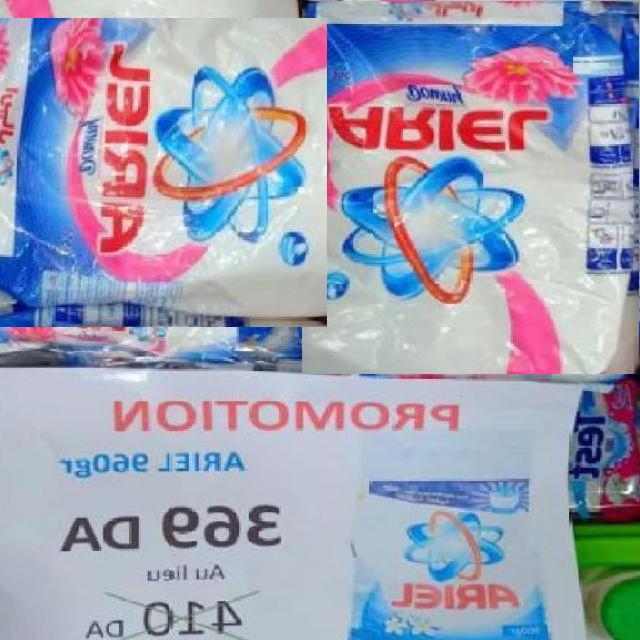Detergent: (301, 0, 640, 374), (0, 19, 327, 327)
